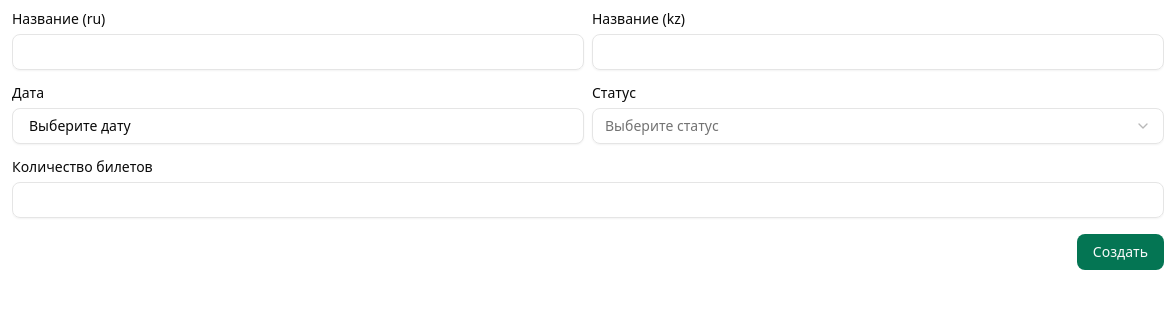
Test: CreateEventForm › should show validation errors on submit with empty fields
Click the button "Создать" at (1120, 252), box [1077, 234, 1164, 270]
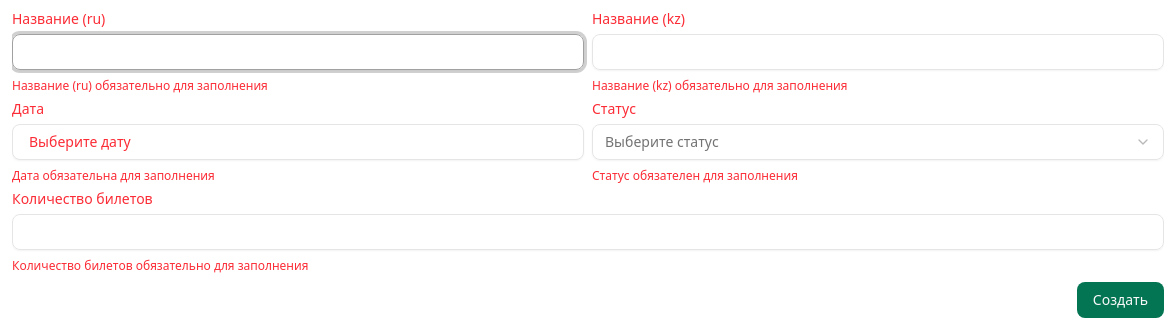
Result: the text with test id "name_ru_error" reads "Название (ru) обязательно для заполнения" at [12, 77, 268, 94]
Result: the text with test id "name_kz_error" reads "Название (kz) обязательно для заполнения" at [592, 77, 848, 94]
Result: the text with test id "event_date_error" reads "Дата обязательна для заполнения" at [12, 167, 215, 184]
